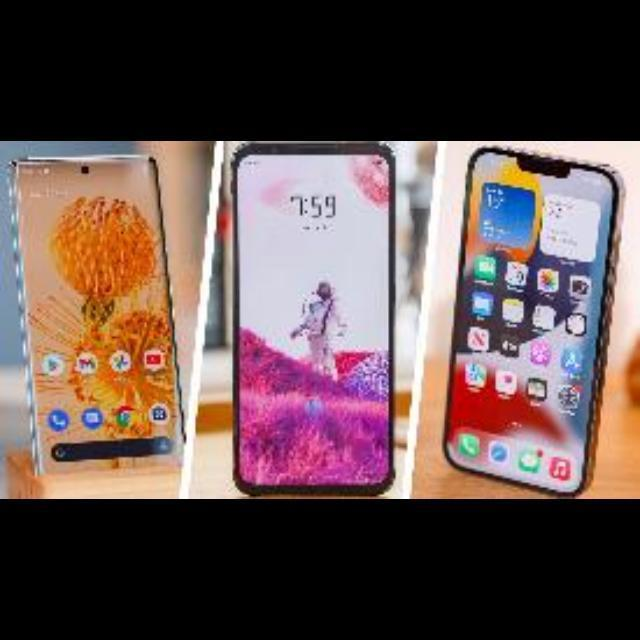PhoneUse: (442, 147, 624, 498), (230, 146, 394, 494), (13, 152, 187, 474)
